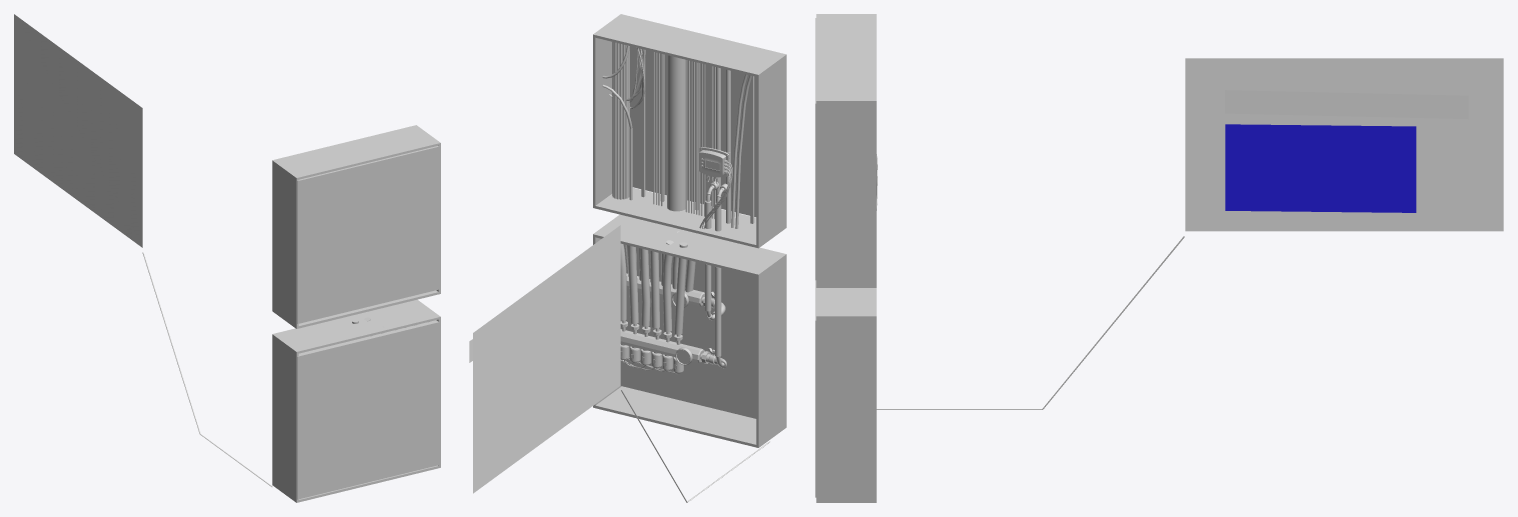
The model's file is heating_cooling_system_up.gltf.
3 renders of one model, left to right at view 1: azimuth 30°, elevation 25°; view 2: azimuth 150°, elevation 25°; view 3: azimuth 270°, elevation 25°, orthographic. The views are drawn at different scales.
Parts seen in each view (by area): view 1: behind_wall_up, Plane.002, Plane.001; view 2: behind_wall_up, Plane.002, Plane.001; view 3: Plane.002, behind_wall_up, Plane, Plane.005.
Part boxes in pixels (x1,y1,x2,y2): behind_wall_up: [272, 125, 440, 502]; Plane.002: [14, 14, 142, 247]; Plane.001: [142, 252, 272, 486]; behind_wall_up: [593, 14, 786, 447]; Plane.002: [473, 225, 620, 493]; Plane.001: [621, 390, 770, 502]; Plane.002: [1185, 58, 1503, 231]; behind_wall_up: [815, 14, 877, 502]; Plane: [1225, 124, 1416, 212]; Plane.005: [1225, 90, 1468, 118].
Size of the model in its own units: 0.6714 by 1.39 by 2.16.
